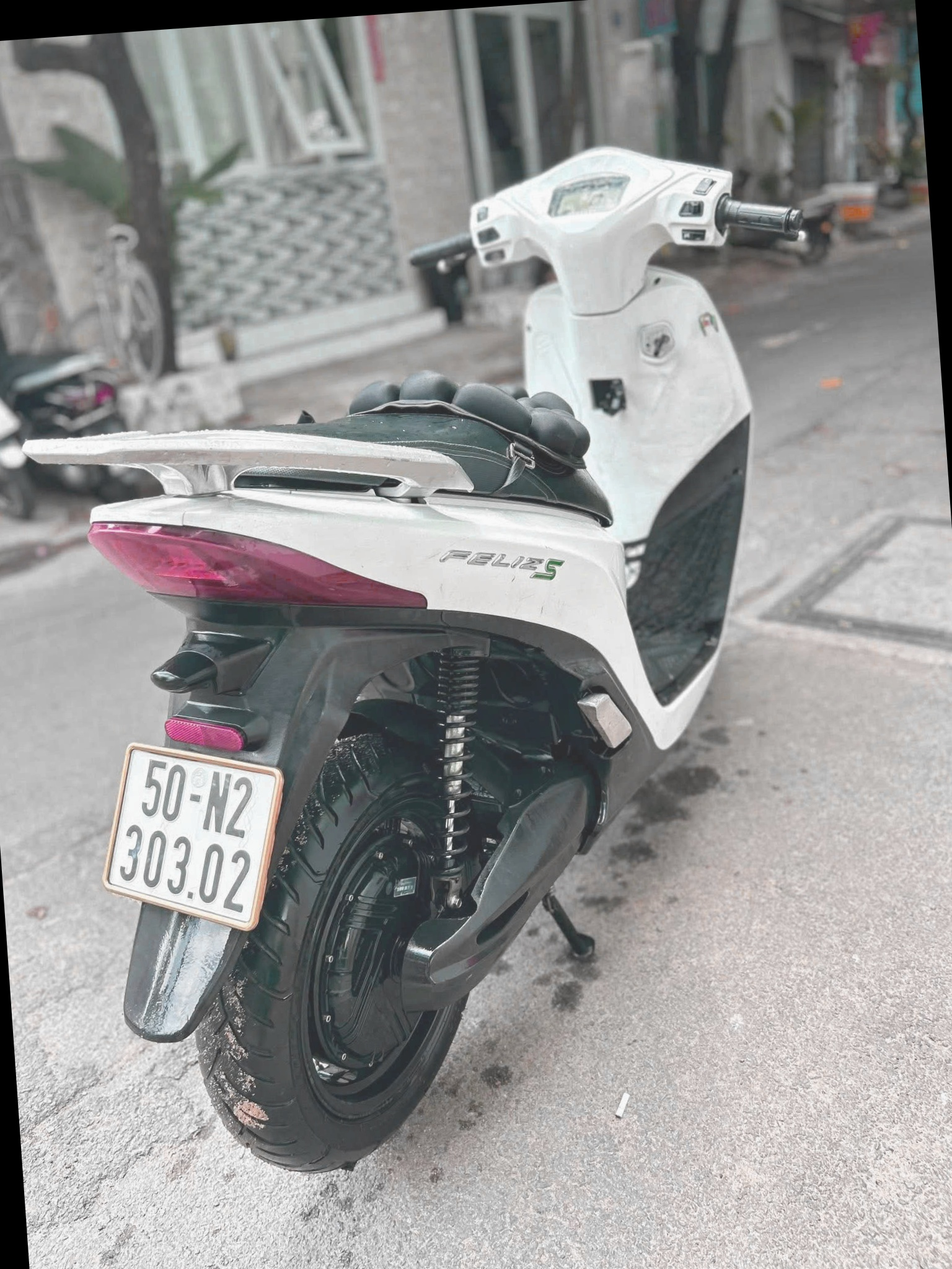Bien-so: (73, 673, 284, 882)
